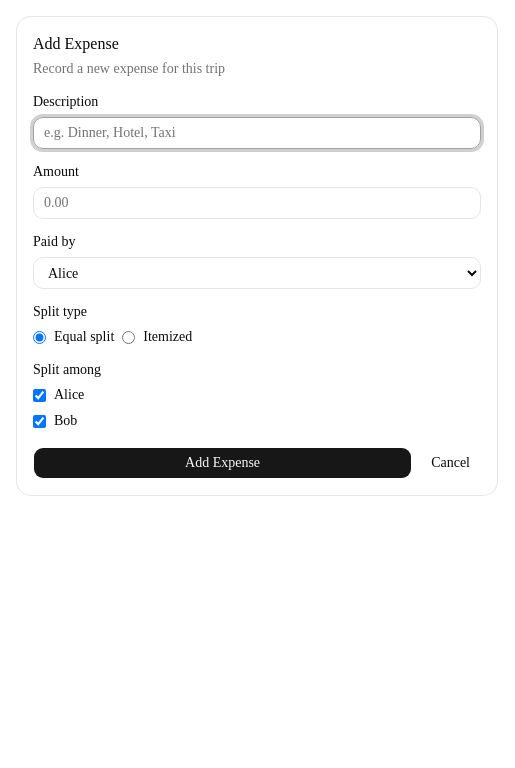
Test case: AddExpenseFormView › itemized split › shows itemized form when itemized is selected
This screenshot has width=515, height=768.
Click the radio button labelled "Itemized". click: [129, 337]
box: top-left (122, 330), bottom-right (135, 344)
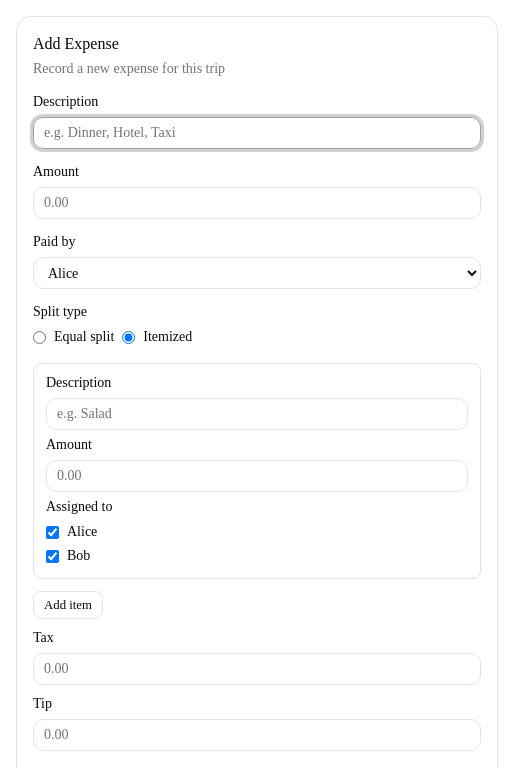
Now the text "Tax" is shown, box top-left (33, 630), bottom-right (54, 645)
Now the text "Tip" is shown, box top-left (33, 696), bottom-right (52, 711)
Now the button "Add item" is shown, box top-left (33, 591), bottom-right (103, 619)
